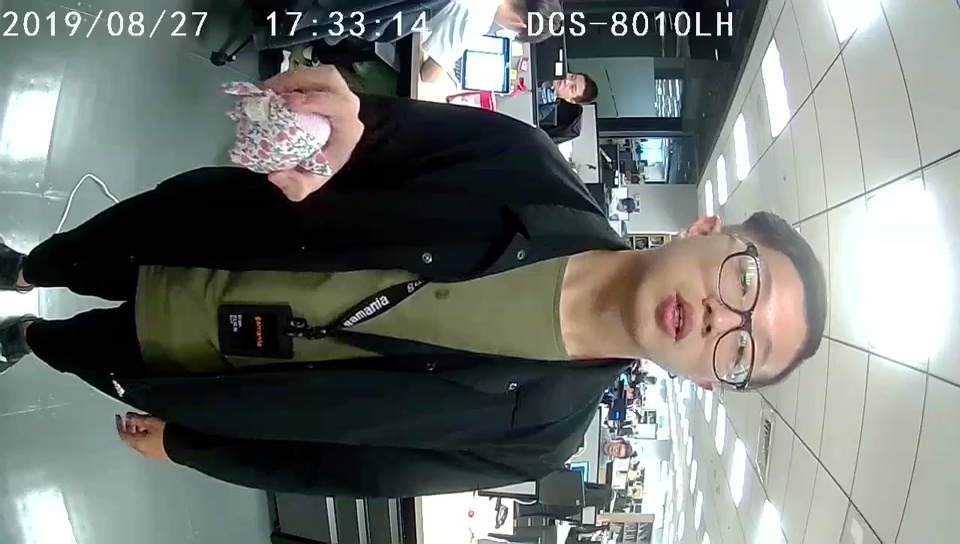pig: (225, 79, 335, 179)
